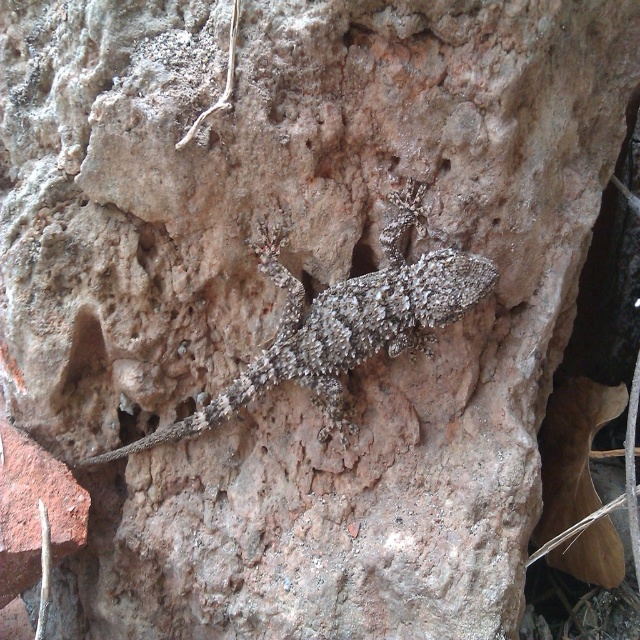Lizard: (66, 206, 519, 502)
